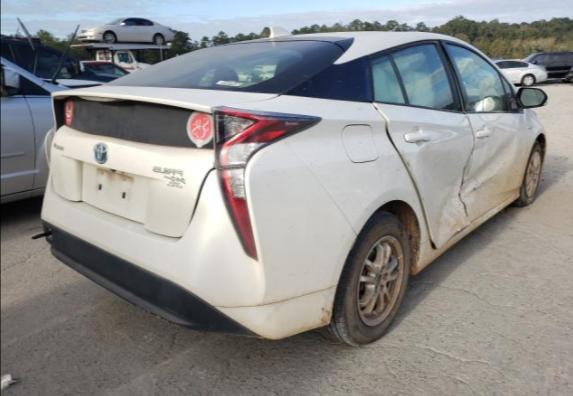Broken part: (371, 101, 443, 254)
Corrosion: (417, 194, 519, 272), (357, 236, 403, 325), (399, 202, 419, 274), (301, 306, 332, 331), (452, 219, 461, 231)
Dent: (412, 113, 473, 246), (459, 114, 524, 222)
Flaking: (399, 150, 413, 173)
Missing part: (94, 168, 133, 205)
Scratch: (472, 177, 483, 190)
